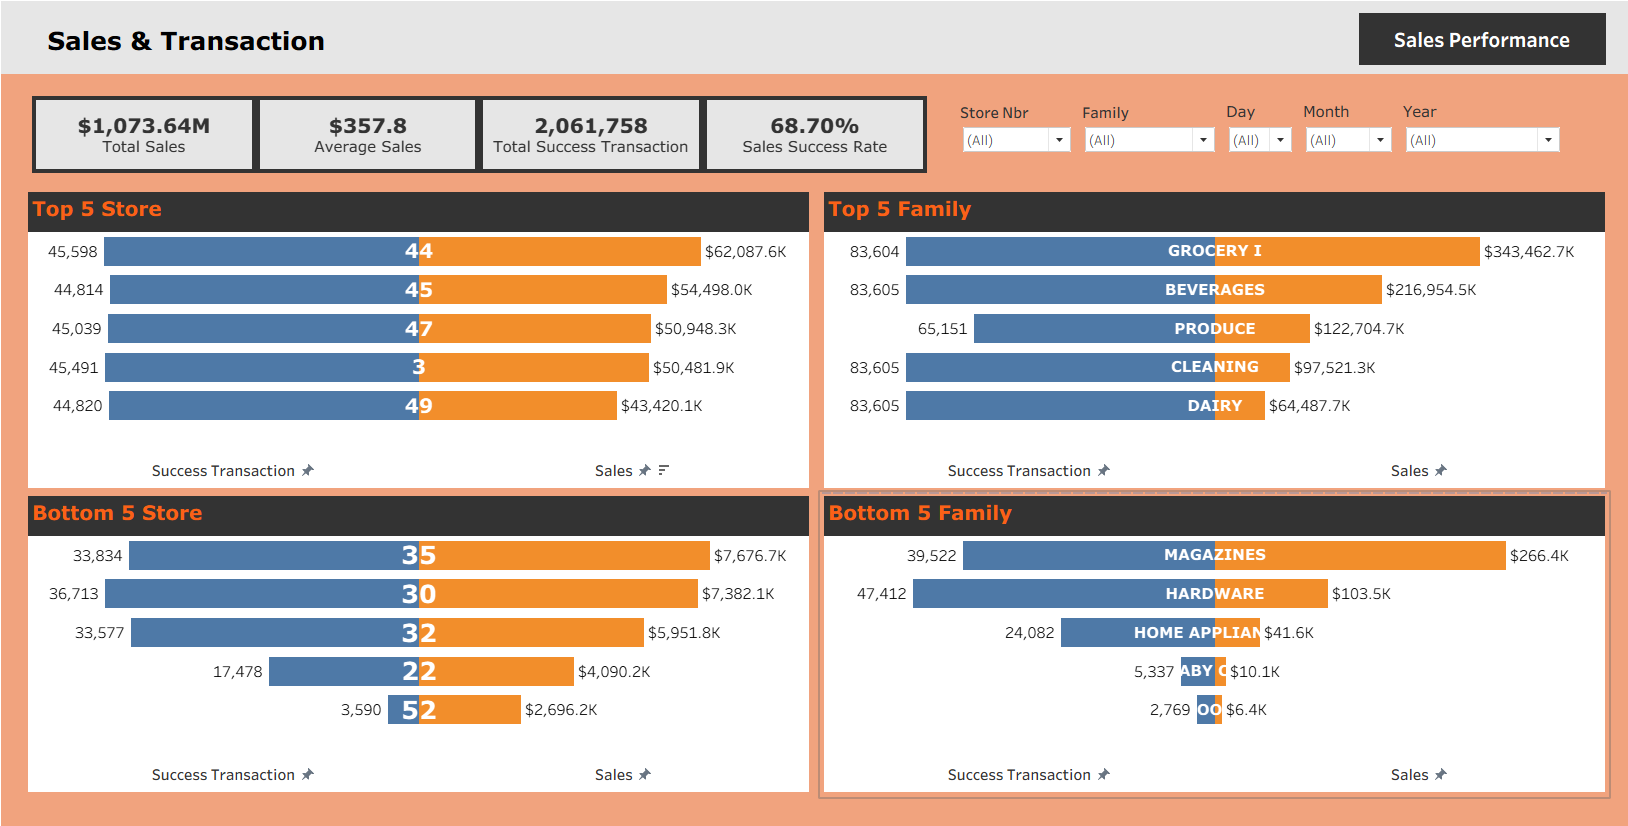

The page's visual inventory and layout, read from the dashboard file:
{"tool":"tableau","page":{"name":"Sales & Transactions","canvas":[1000,1000],"units":"permille","ordinal":0},"visuals":[{"type":"blank","box":[4.8,9.4,990.3,981.2]},{"type":"dashboard-object","box":[826.8,28.2,149.1,61.1]},{"type":"text","box":[33.2,29.4,184.1,61.1]},{"type":"blank","box":[7.2,99.9,983.1,886]},{"type":"worksheet","title":"total sales","mark":"Automatic","box":[25.9,125.7,135,90.5]},{"type":"worksheet","title":"avg. sales","mark":"Automatic","box":[161,125.7,135,90.5]},{"type":"worksheet","title":"Total Success Transaction","mark":"Automatic","box":[296,125.7,135,90.5]},{"type":"worksheet","title":"Sales Success Rate","mark":"Automatic","box":[431,125.7,135,90.5]},{"type":"filter","title":"Sales Success Rate","param":"[federated.0tv7pys114wf2u1bouao909ua7hu].[none:store_nbr:ok]","box":[583.6,128.1,73.6,83.4]},{"type":"filter","title":"Sales Success Rate","param":"[federated.0tv7pys114wf2u1bouao909ua7hu].[none:family:nk]","box":[657.2,128.1,86.9,83.4]},{"type":"filter","title":"Sales Success Rate","param":"[federated.0tv7pys114wf2u1bouao909ua7hu].[dy:date:ok]","box":[744.1,128.1,46.5,83.4]},{"type":"filter","title":"Sales Success Rate","param":"[federated.0tv7pys114wf2u1bouao909ua7hu].[mn:date:ok]","box":[790.6,128.1,60.4,83.4]},{"type":"filter","title":"Sales Success Rate","param":"[federated.0tv7pys114wf2u1bouao909ua7hu].[yr:date:ok]","box":[850.9,128.1,101.4,83.4]},{"type":"worksheet","title":"Top 5 Store","mark":"Automatic","rows":["store_nbr"],"cols":["sales_status","Calculation_1823283388563460","sales","Calculation_1823283392008198"],"box":[21.1,233.8,475.9,357.8]},{"type":"worksheet","title":"Top 5 Family","mark":"Automatic","rows":["family"],"cols":["sales_status","Calculation_1823283388563460","sales","Calculation_1823283392008198"],"box":[501.8,233.8,475.9,357.8]},{"type":"worksheet","title":"Bottom 5 Store","mark":"Automatic","rows":["store_nbr"],"cols":["sales_status","Calculation_1823283388563460","sales","Calculation_1823283392008198"],"box":[21.1,591.6,475.9,357.8]},{"type":"worksheet","title":"Bottom 5 Family","mark":"Automatic","rows":["family"],"cols":["sales_status","Calculation_1823283388563460","sales","Calculation_1823283392008198"],"box":[501.8,591.6,475.9,357.8]}]}

Visuals, with their boxes on the dashboard's canvas, which has no fixed pixel size, in thousandths of its width and height (x1, y1, x2, y2). These are canvas units, not pixel positions in the 1628x826 screenshot, which may show the page scaled, cropped or inside an application window:
blank: x1=5, y1=9, x2=995, y2=991
dashboard-object: x1=827, y1=28, x2=976, y2=89
text: x1=33, y1=29, x2=217, y2=90
blank: x1=7, y1=100, x2=990, y2=986
"total sales" worksheet: x1=26, y1=126, x2=161, y2=216
"avg. sales" worksheet: x1=161, y1=126, x2=296, y2=216
"Total Success Transaction" worksheet: x1=296, y1=126, x2=431, y2=216
"Sales Success Rate" worksheet: x1=431, y1=126, x2=566, y2=216
"Sales Success Rate" filter: x1=584, y1=128, x2=657, y2=212
"Sales Success Rate" filter: x1=657, y1=128, x2=744, y2=212
"Sales Success Rate" filter: x1=744, y1=128, x2=791, y2=212
"Sales Success Rate" filter: x1=791, y1=128, x2=851, y2=212
"Sales Success Rate" filter: x1=851, y1=128, x2=952, y2=212
"Top 5 Store" worksheet: x1=21, y1=234, x2=497, y2=592
"Top 5 Family" worksheet: x1=502, y1=234, x2=978, y2=592
"Bottom 5 Store" worksheet: x1=21, y1=592, x2=497, y2=949
"Bottom 5 Family" worksheet: x1=502, y1=592, x2=978, y2=949
